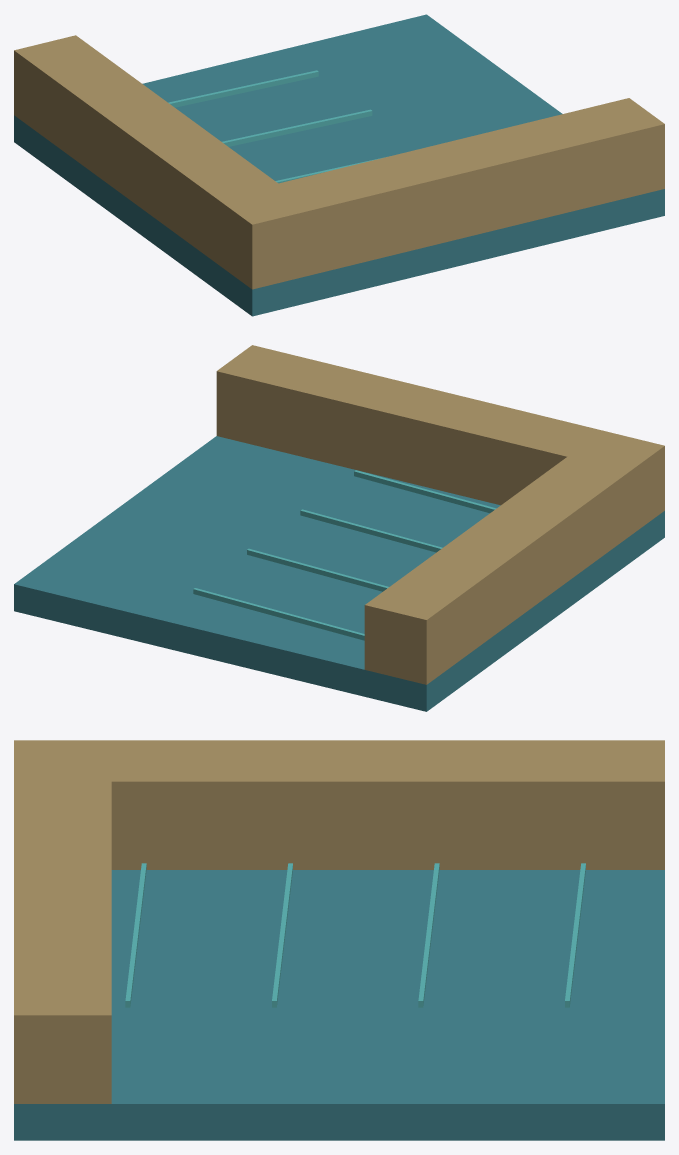
The model's file is terrain-water-inlet.lod0.glb.
The picture shows the model from 3 angles, top to bottom: view 1: azimuth 30°, elevation 25°; view 2: azimuth 150°, elevation 25°; view 3: azimuth 270°, elevation 25°; orthographic projection. The views are drawn at different scales.
Visible parts, largest first — view 1: terrain-water-inlet__body; view 2: terrain-water-inlet__body; view 3: terrain-water-inlet__body.
Boxes of the visible parts, left/top/right/bottom form: terrain-water-inlet__body: left=14, top=14, right=664, bottom=316; terrain-water-inlet__body: left=14, top=345, right=664, bottom=711; terrain-water-inlet__body: left=14, top=740, right=664, bottom=1140.
Bounding box in the file's own units: 2 × 0.425 × 2.
